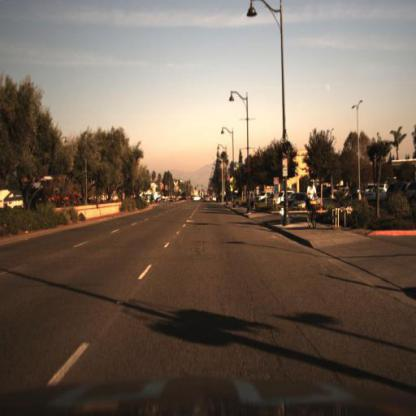biker: (308, 178, 320, 231)
car: (290, 193, 312, 215)
pedestrian: (251, 195, 256, 213)
